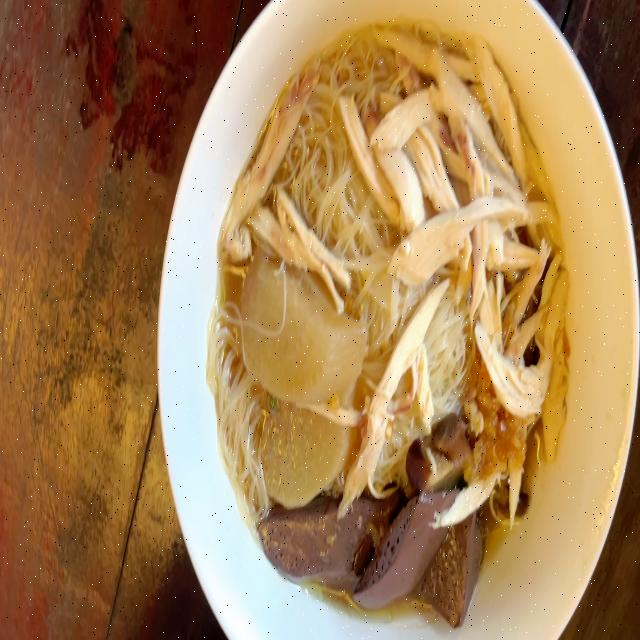boiled_chicken_blood_jelly: (249, 490, 480, 618)
chicken_shredded: (342, 35, 545, 273), (457, 263, 569, 490)
daikon_radish: (243, 257, 362, 493)
noodle: (190, 12, 578, 640)
